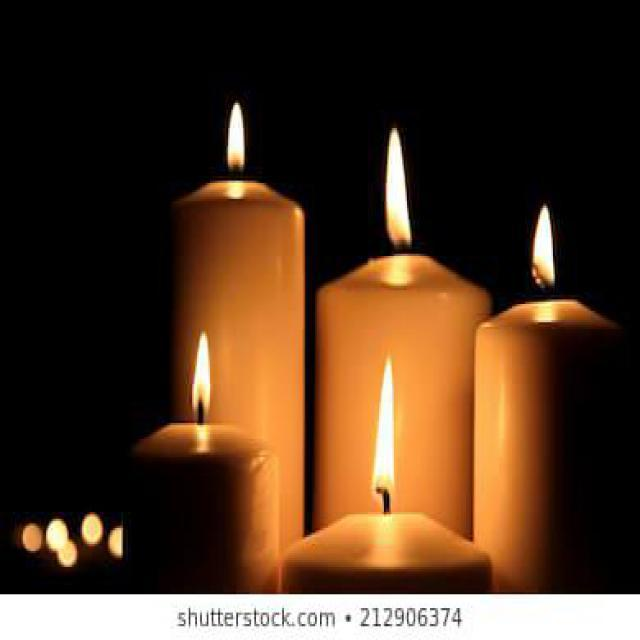Fire: (384, 128, 412, 254), (372, 359, 396, 503), (530, 207, 556, 296), (191, 332, 213, 422), (226, 104, 243, 180)
